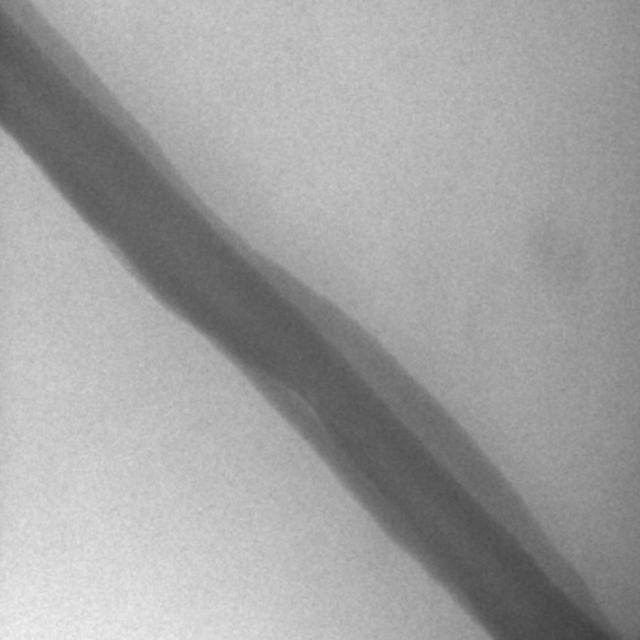unfused: (244, 238, 619, 640)
